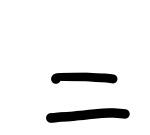eqv: (41, 69, 132, 124)
